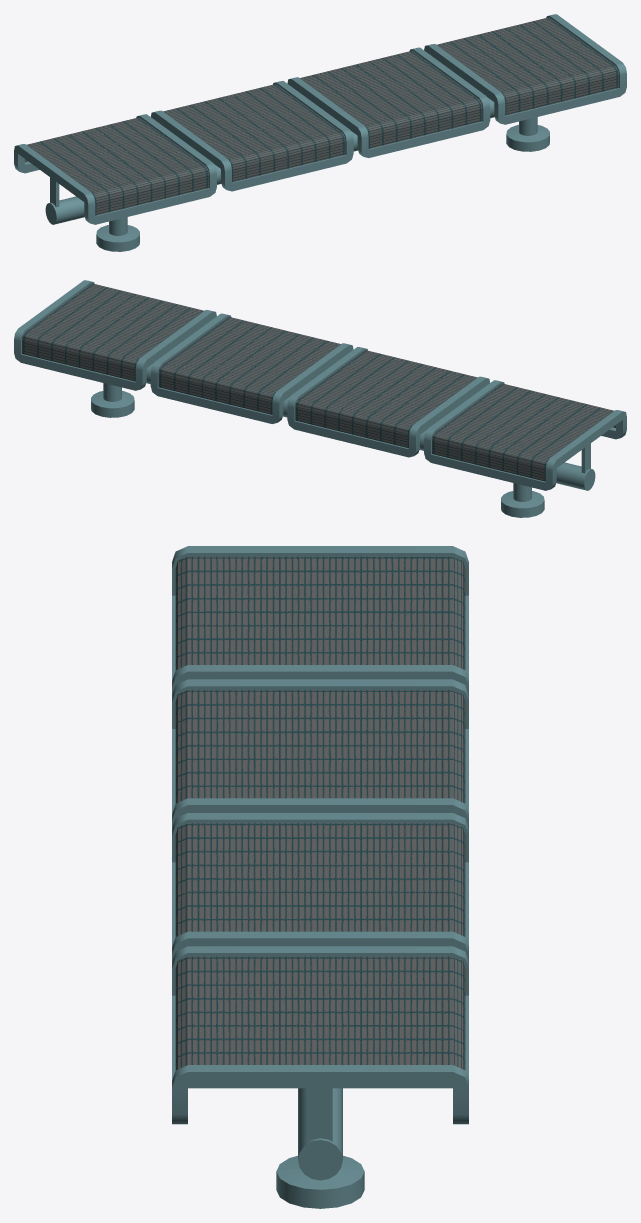
Rendered from Bench LCC.fbx.fbx.
3 views of the same model, one above another, from view 1: azimuth 30°, elevation 25°; view 2: azimuth 150°, elevation 25°; view 3: azimuth 270°, elevation 25° (orthographic). The views are drawn at different scales.
Visible parts, largest first — view 1: Seat3, Seat1, Seat, Seat2, BeamSupport1, BeamSupport2, MainBeam; view 2: Seat3, Seat1, Seat, Seat2, BeamSupport1, BeamSupport2, MainBeam; view 3: Seat, Seat2, Seat1, Seat3, BeamSupport1, MainBeam, SeatSupport08.
Part boxes in pixels (bbox=[...]): Seat3: bbox=[14, 114, 216, 224]; Seat1: bbox=[287, 47, 490, 157]; Seat: bbox=[424, 14, 626, 124]; Seat2: bbox=[151, 81, 353, 191]; BeamSupport1: bbox=[506, 117, 549, 151]; BeamSupport2: bbox=[96, 217, 139, 251]; MainBeam: bbox=[45, 97, 494, 224]; Seat3: bbox=[424, 380, 626, 490]; Seat1: bbox=[150, 313, 353, 423]; Seat: bbox=[14, 280, 216, 390]; Seat2: bbox=[287, 347, 489, 457]; BeamSupport1: bbox=[91, 383, 134, 417]; BeamSupport2: bbox=[501, 483, 544, 517]; MainBeam: bbox=[146, 363, 595, 490]; Seat: bbox=[172, 946, 468, 1124]; Seat2: bbox=[172, 679, 468, 828]; Seat1: bbox=[172, 813, 468, 961]; Seat3: bbox=[172, 546, 468, 694]; BeamSupport1: bbox=[276, 1155, 364, 1208]; MainBeam: bbox=[298, 1088, 342, 1180]; SeatSupport08: bbox=[308, 1088, 332, 1141].
Size of the model in its own units: 258 by 40.89 by 61.68.
Materials: 2 (1 with a texture image).
